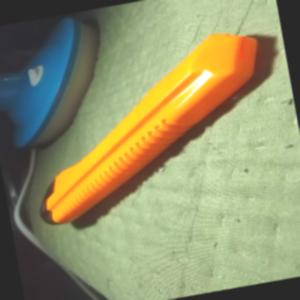estilete: (11, 23, 284, 228)
